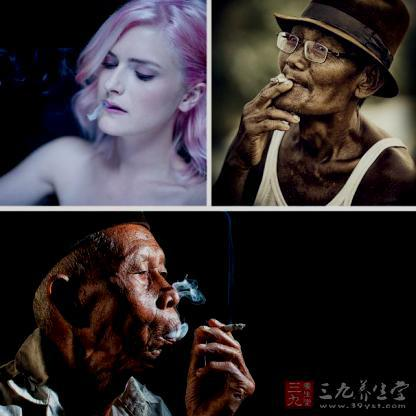cigarette: (219, 321, 246, 336)
person: (4, 214, 190, 415), (244, 0, 415, 211), (37, 0, 208, 211)
smoke: (170, 277, 215, 304), (1, 47, 26, 85), (56, 48, 70, 87), (84, 103, 108, 123), (168, 323, 190, 342)
